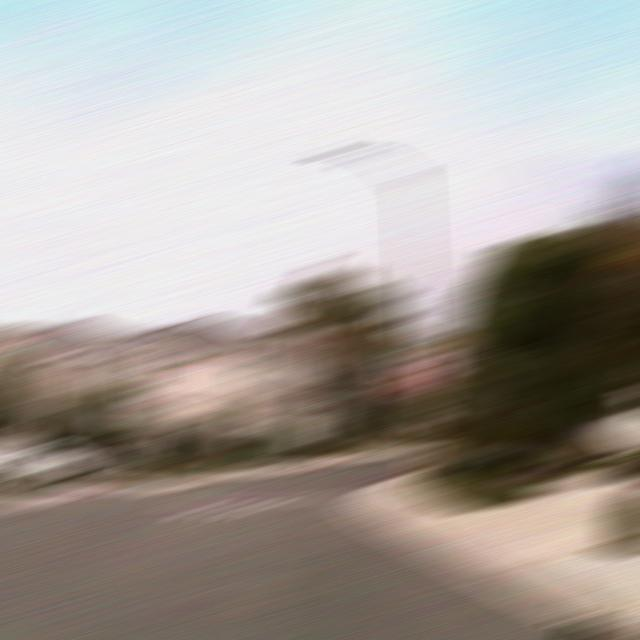stop_sign: (400, 364, 439, 391)
